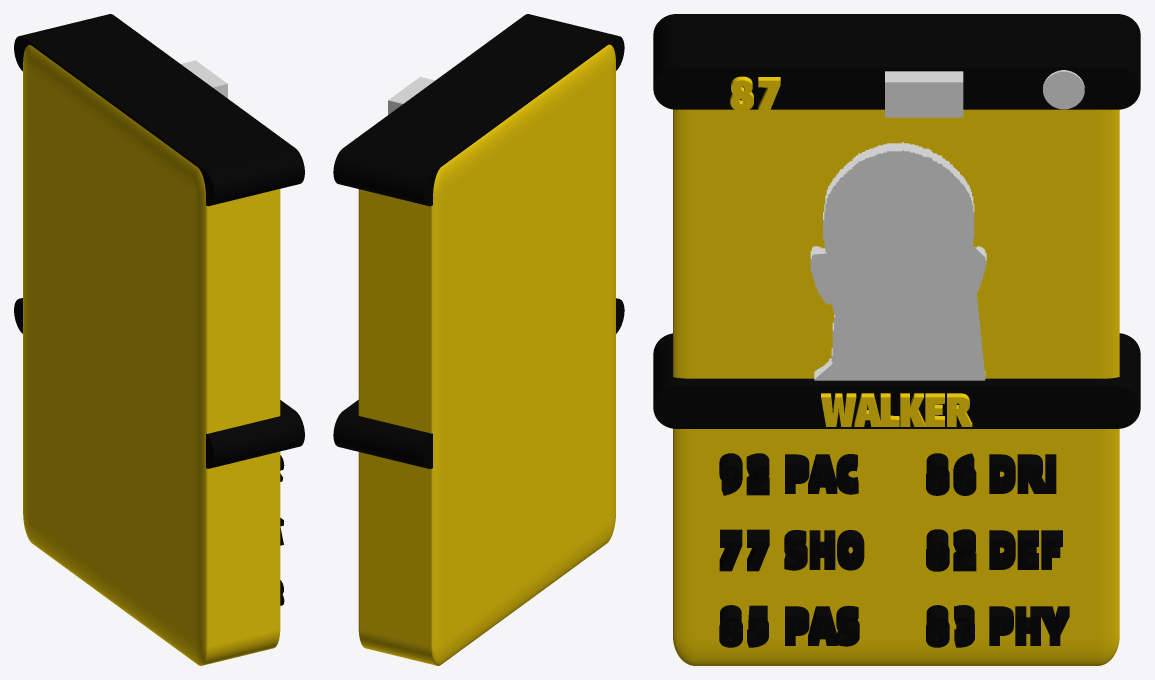
The model's file is WALKER.fbx.
3 views of the same model, side by side, from view 1: azimuth 30°, elevation 25°; view 2: azimuth 150°, elevation 25°; view 3: azimuth 270°, elevation 25° (orthographic). The views are drawn at different scales.
Visible parts, largest first — view 1: Куб, Цилиндр.002, Цилиндр.001, Куб.001; view 2: Куб, Цилиндр.002, Цилиндр.001, Куб.001; view 3: Куб, Цилиндр.002, Плоскость, Цилиндр.001, Текст.006, Куб.001, Текст, Текст.002, Текст.005, Текст.004, Текст.001, Текст.003 (+8 smaller).
Boxes of the visible parts, x1,y1,x2,y2 form: Куб: [23, 45, 280, 665]; Цилиндр.002: [14, 14, 304, 206]; Цилиндр.001: [14, 298, 304, 468]; Куб.001: [181, 60, 227, 98]; Куб: [358, 44, 615, 665]; Цилиндр.002: [333, 14, 624, 206]; Цилиндр.001: [333, 298, 624, 468]; Куб.001: [388, 76, 435, 114]; Куб: [673, 109, 1119, 665]; Цилиндр.002: [653, 14, 1140, 109]; Плоскость: [810, 142, 986, 380]; Цилиндр.001: [653, 333, 1140, 428]; Текст.006: [821, 393, 972, 426]; Куб.001: [885, 71, 963, 117]; Текст: [784, 530, 864, 570]; Текст.002: [785, 605, 859, 646]; Текст.005: [989, 606, 1069, 645]; Текст.004: [989, 530, 1062, 569]; Текст.001: [785, 454, 858, 494]; Текст.003: [989, 454, 1056, 493].
Bounding box in the file's own units: 300 × 1202 × 872.
